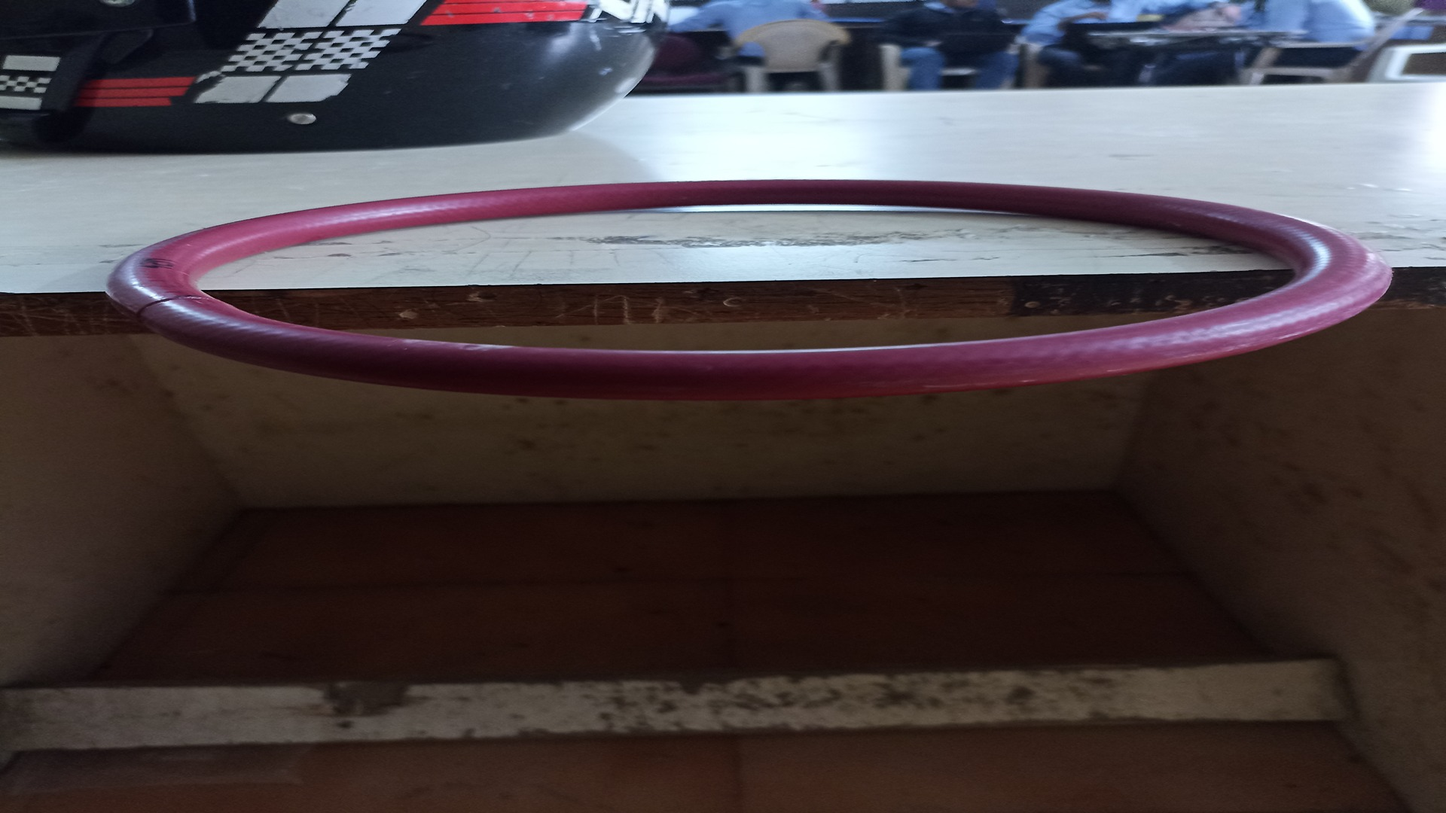Red ring: (108, 176, 1390, 392)
